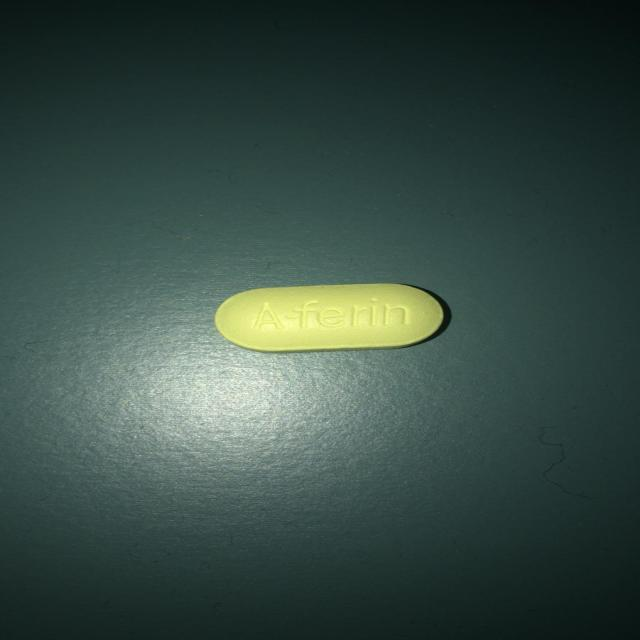pills: (202, 278, 458, 360)
